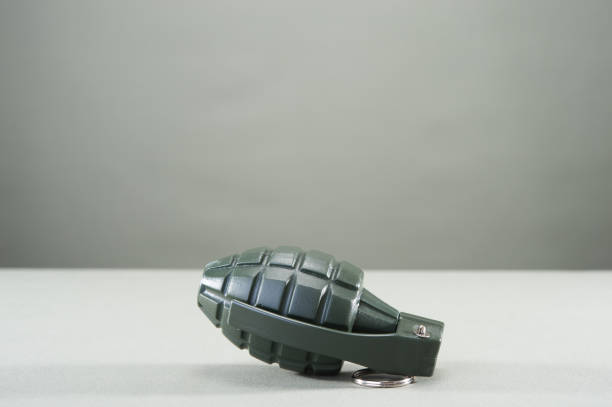e1: (197, 246, 444, 386)
